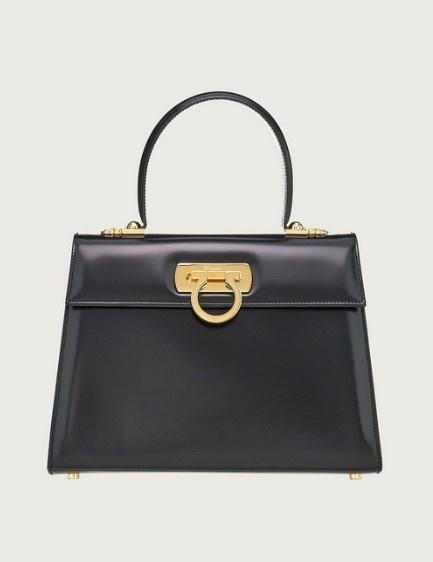FERRAGAMO: (181, 259, 259, 339)
